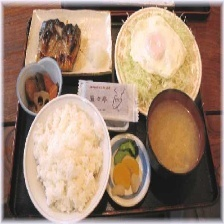rice: (24, 101, 111, 216)
